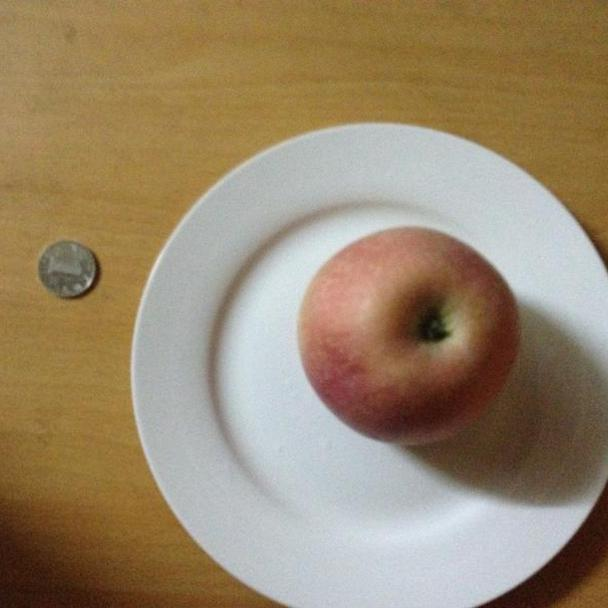apple: (296, 226, 521, 448)
